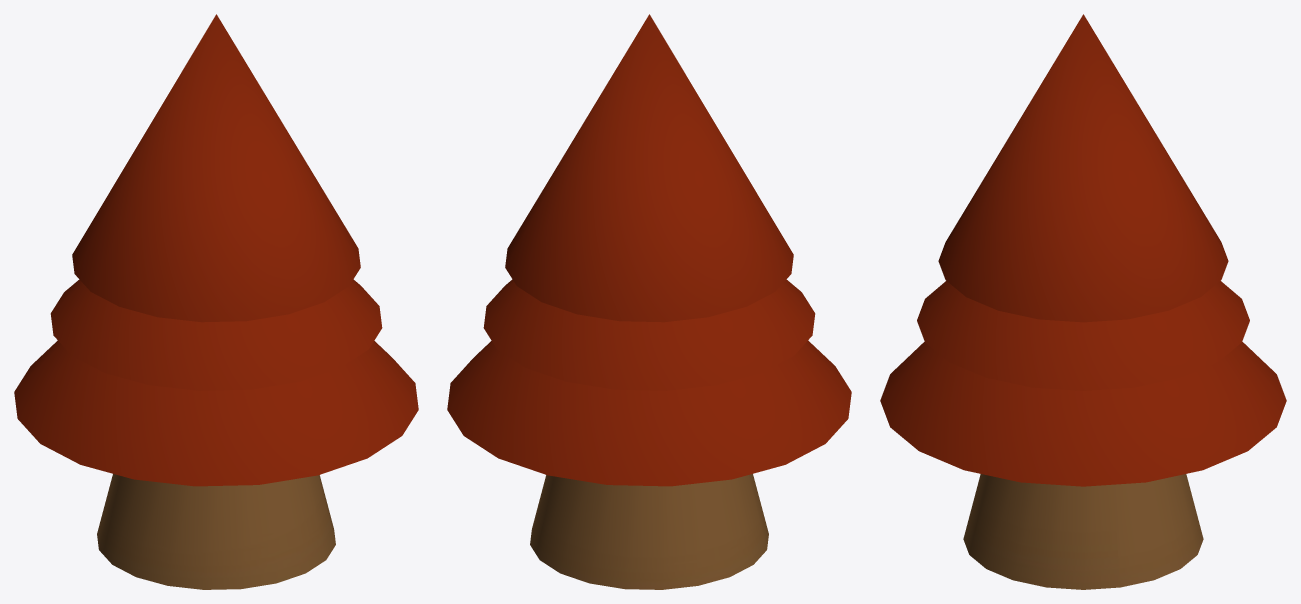
Rendered from red_tree1.fbx.
3 renders of one model, left to right at view 1: azimuth 30°, elevation 25°; view 2: azimuth 150°, elevation 25°; view 3: azimuth 270°, elevation 25°, orthographic.
Parts seen in each view (by area): view 1: polySurface137, polySurface136; view 2: polySurface137, polySurface136; view 3: polySurface137, polySurface136.
Boxes of the visible parts, x1,y1,x2,y2 form: polySurface137: (14, 14, 418, 486); polySurface136: (97, 474, 335, 589); polySurface137: (447, 14, 851, 486); polySurface136: (530, 474, 768, 589); polySurface137: (880, 14, 1286, 486); polySurface136: (963, 474, 1203, 589).
Size of the model in its own units: 0.7744 by 1.1 by 0.7744.
